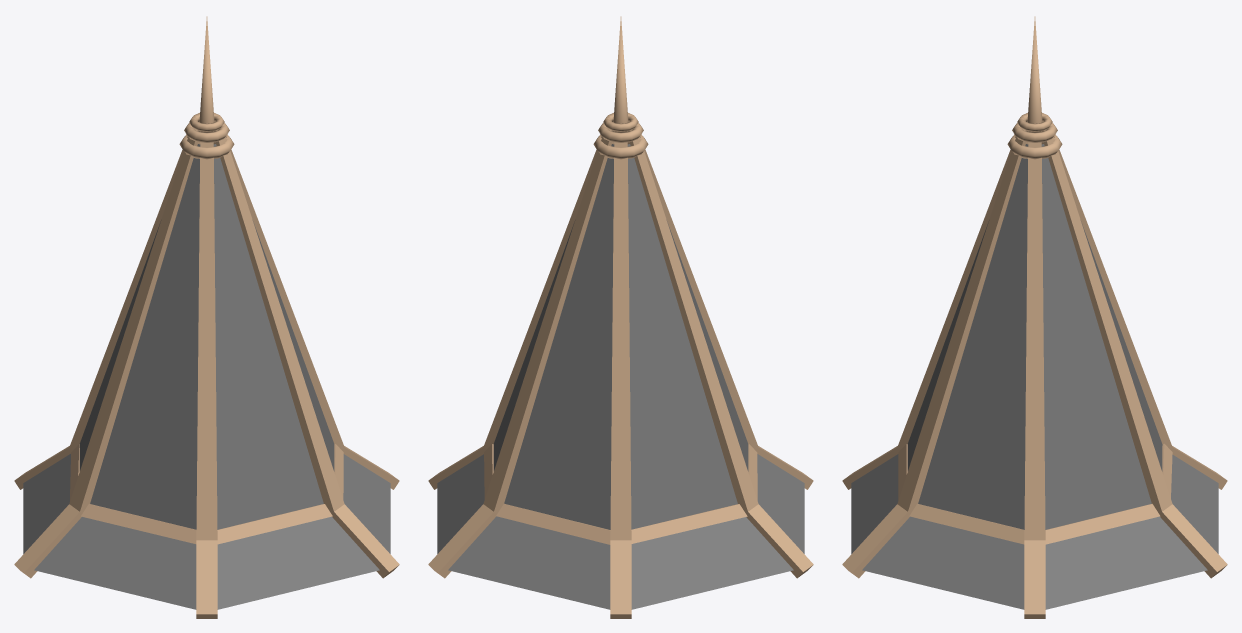
The model's file is HexRoofPointed.fbx.
3 views of the same model, side by side, from view 1: azimuth 30°, elevation 25°; view 2: azimuth 150°, elevation 25°; view 3: azimuth 270°, elevation 25° (orthographic).
Parts seen in each view (by area): view 1: Roof_LOD0; view 2: Roof_LOD0; view 3: Roof_LOD0.
Part boxes in pixels (x1,y1,x2,y2): Roof_LOD0: (14,16,399,618); Roof_LOD0: (428,16,813,618); Roof_LOD0: (842,16,1227,618).
Size of what is drawn, in the model's own units: 204 by 269 by 182.
